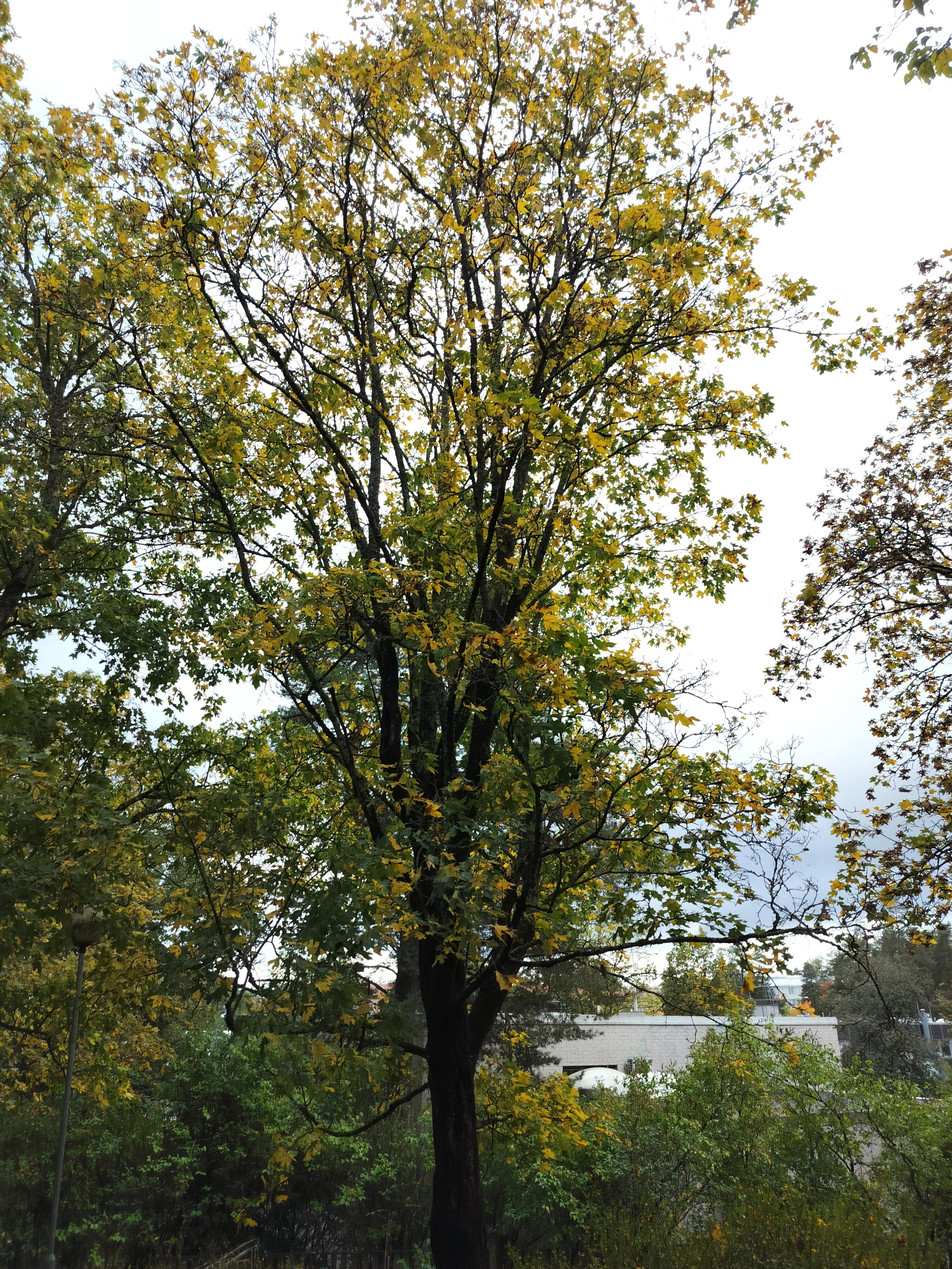Maple: (162, 1, 787, 1269)
